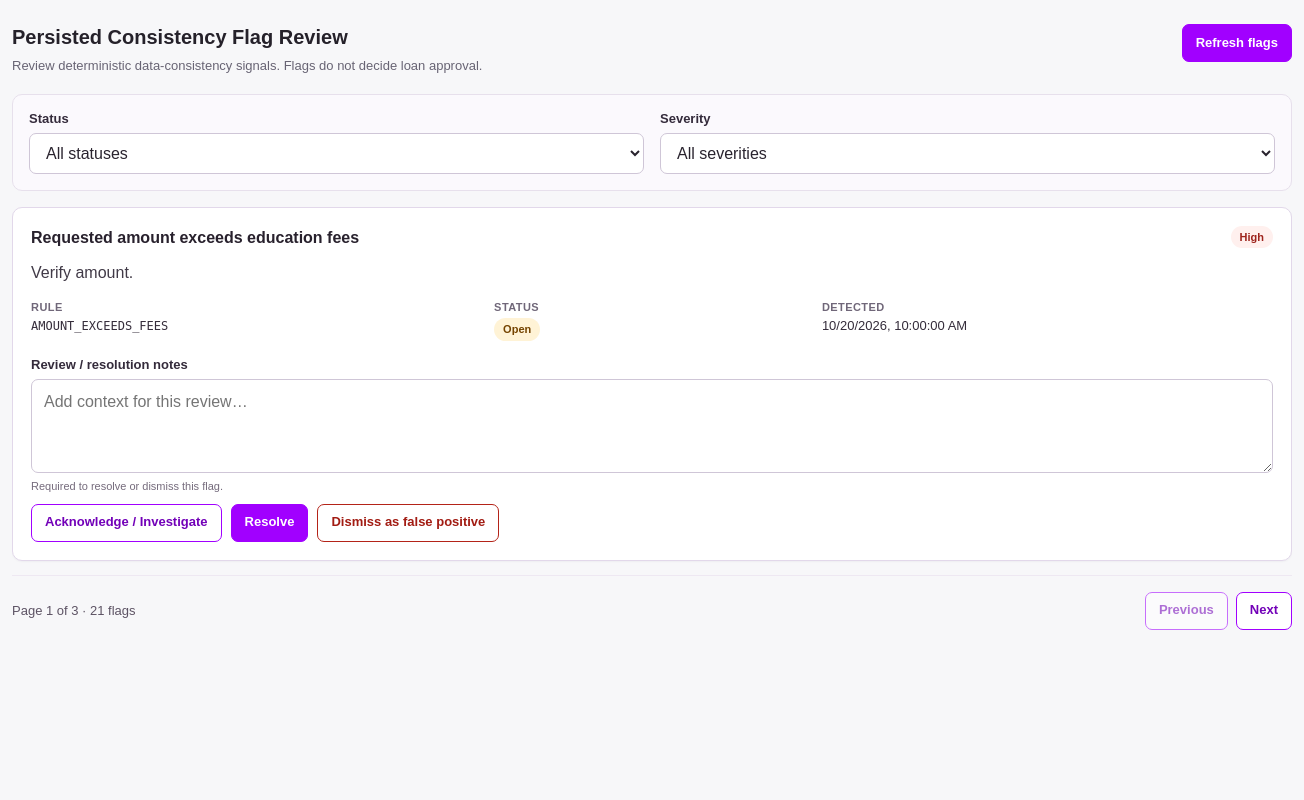
ConsistencyFlagReviewPanel › moves back to the last valid page if filtering reduces page count
The width and height of the screenshot is (1304, 800).
Click the button with aria-label "Next page": (1264, 611) top-left (1236, 592), bottom-right (1292, 630)
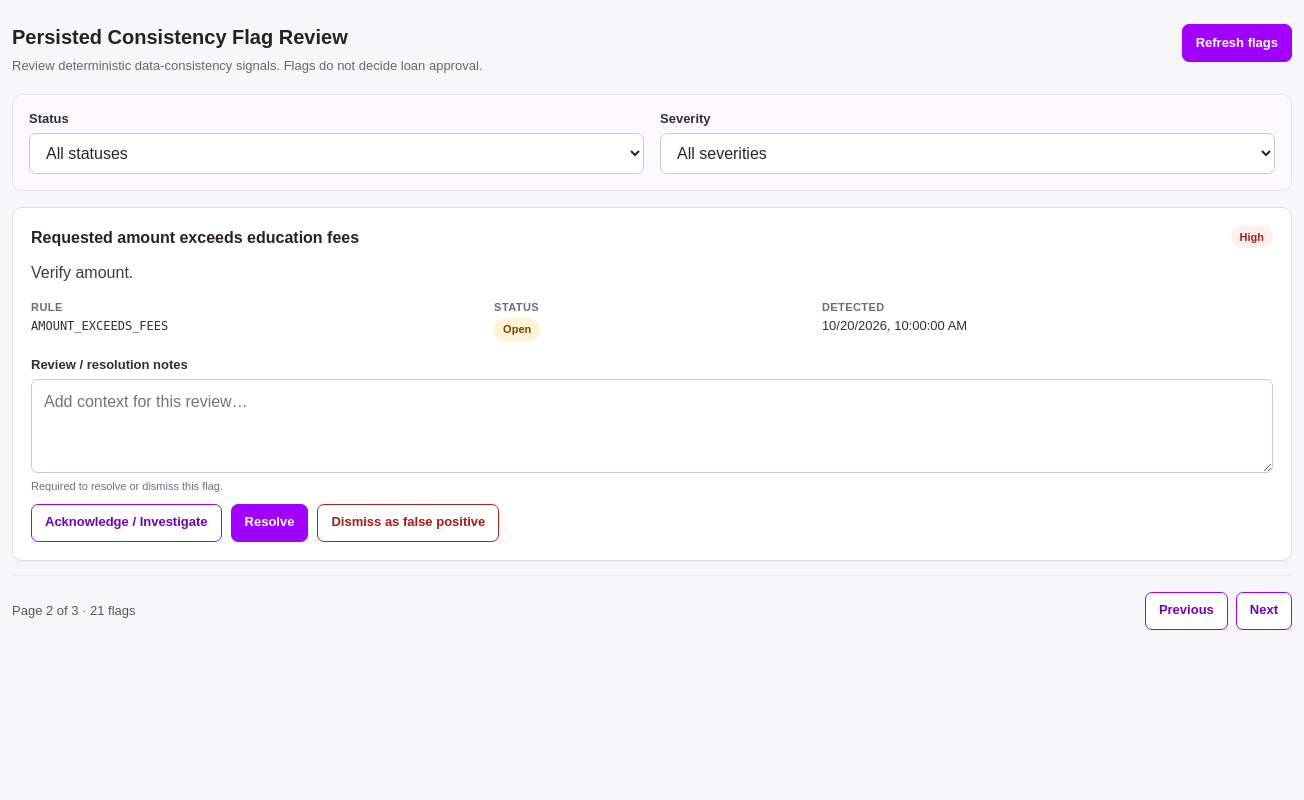
Select "Resolved" in the dropdown labelled "Status": (336, 153) top-left (29, 132), bottom-right (644, 174)
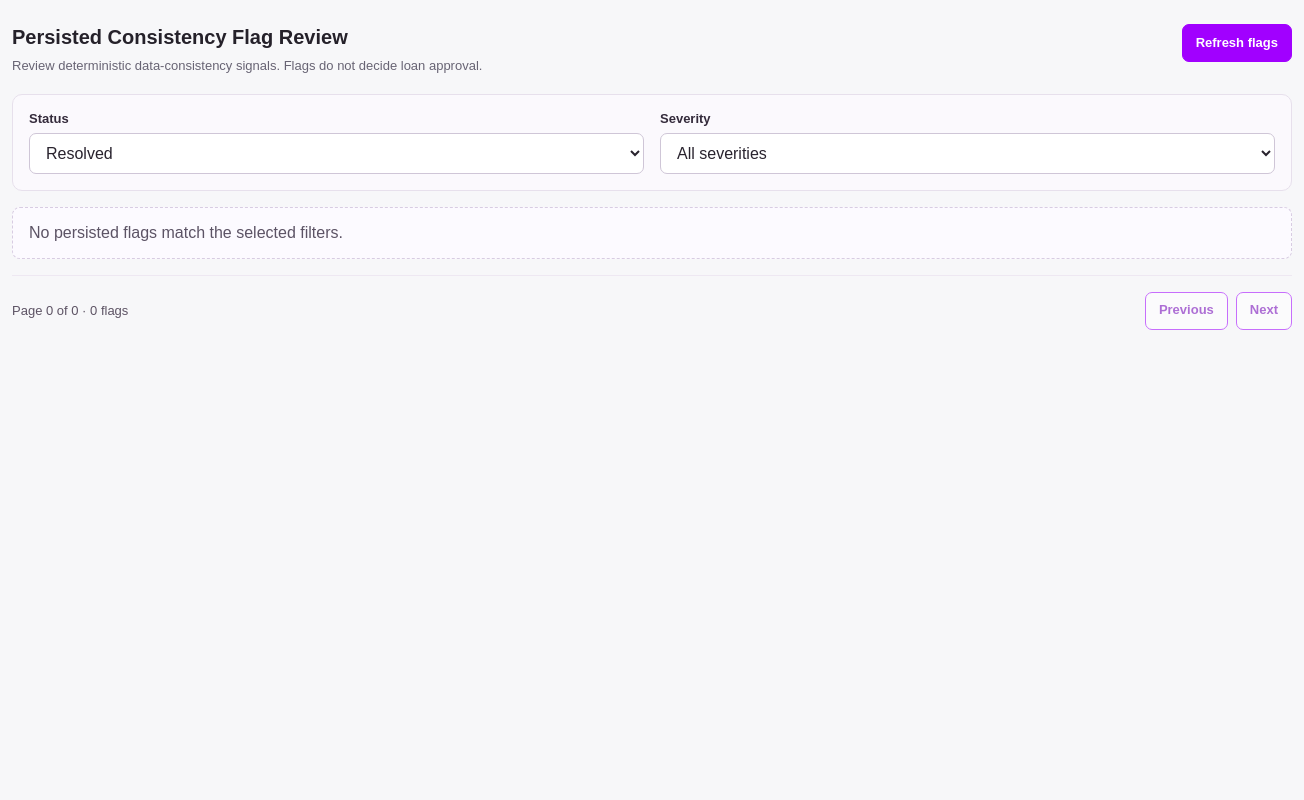
Expected: the text "No persisted flags match the selected filters." is shown, top-left (12, 206), bottom-right (1292, 258)
